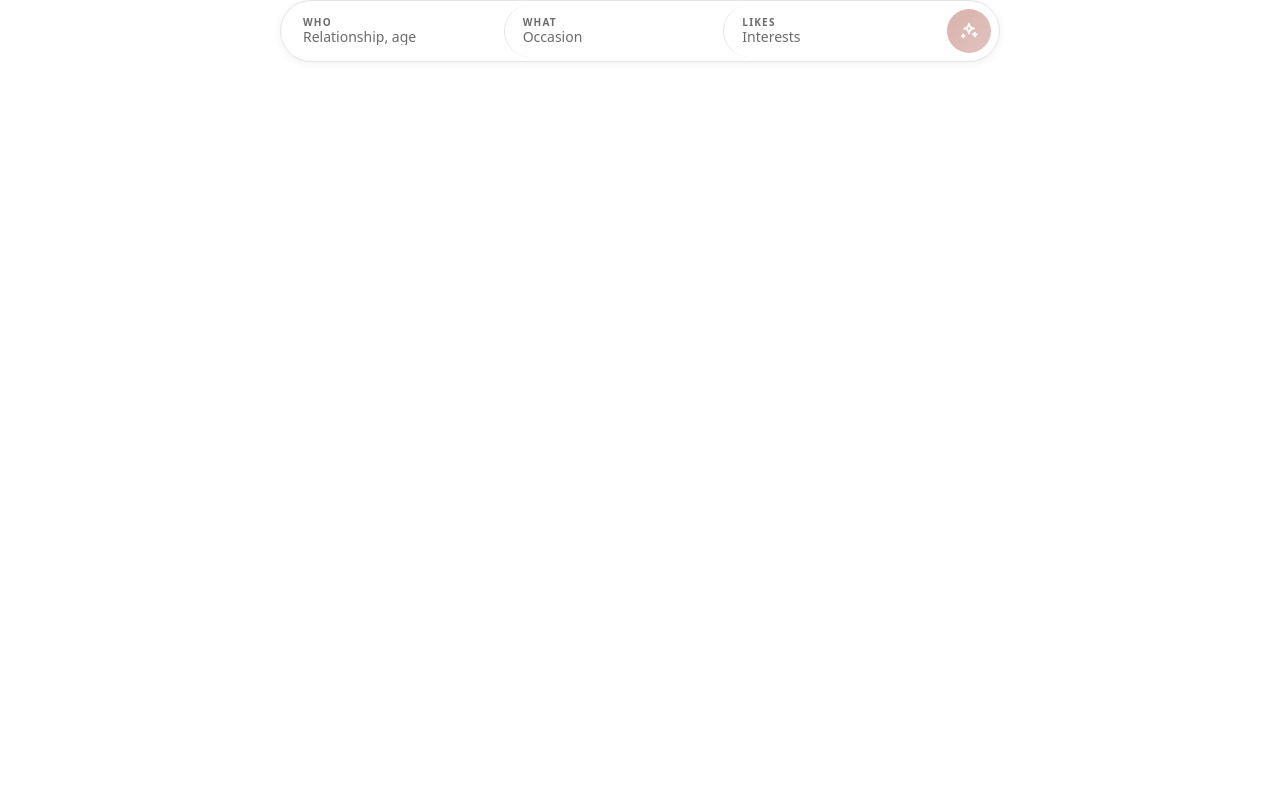
Test: SearchPill › selecting Mom + 30s closes WHO and updates segment text
The width and height of the screenshot is (1280, 800).
Click the button "Who Relationship, age" at (394, 31), box [285, 5, 504, 57]
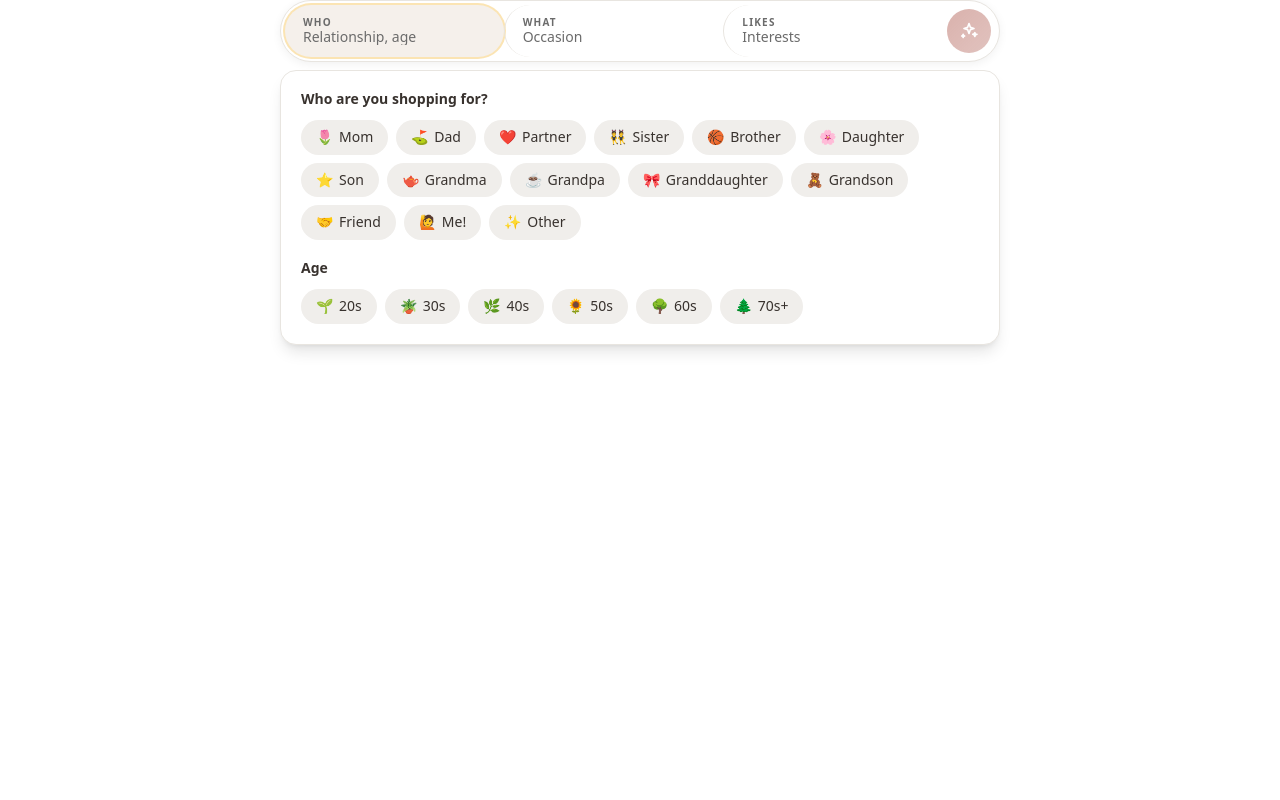
Click the button "🌷 Mom" at (345, 137), box [301, 120, 388, 155]
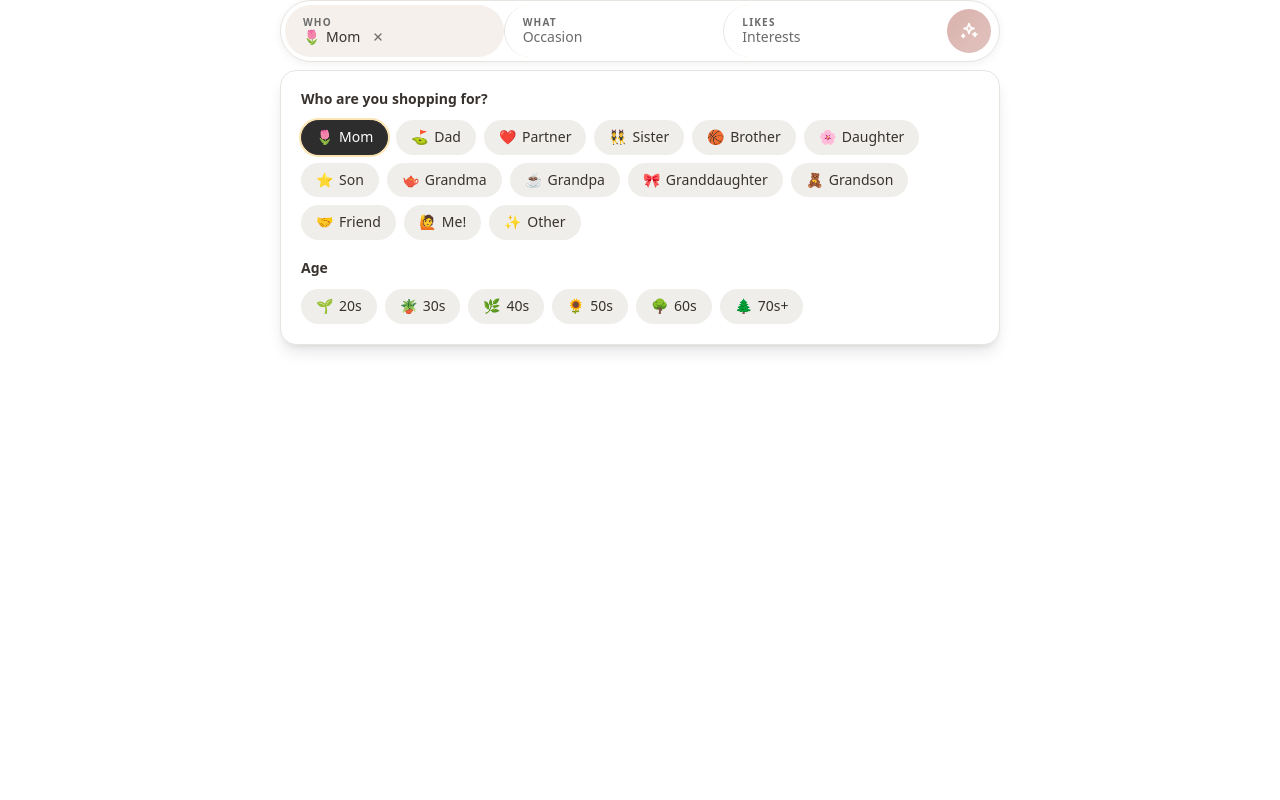
Click the button "🪴 30s" at (423, 306), box [385, 289, 460, 324]
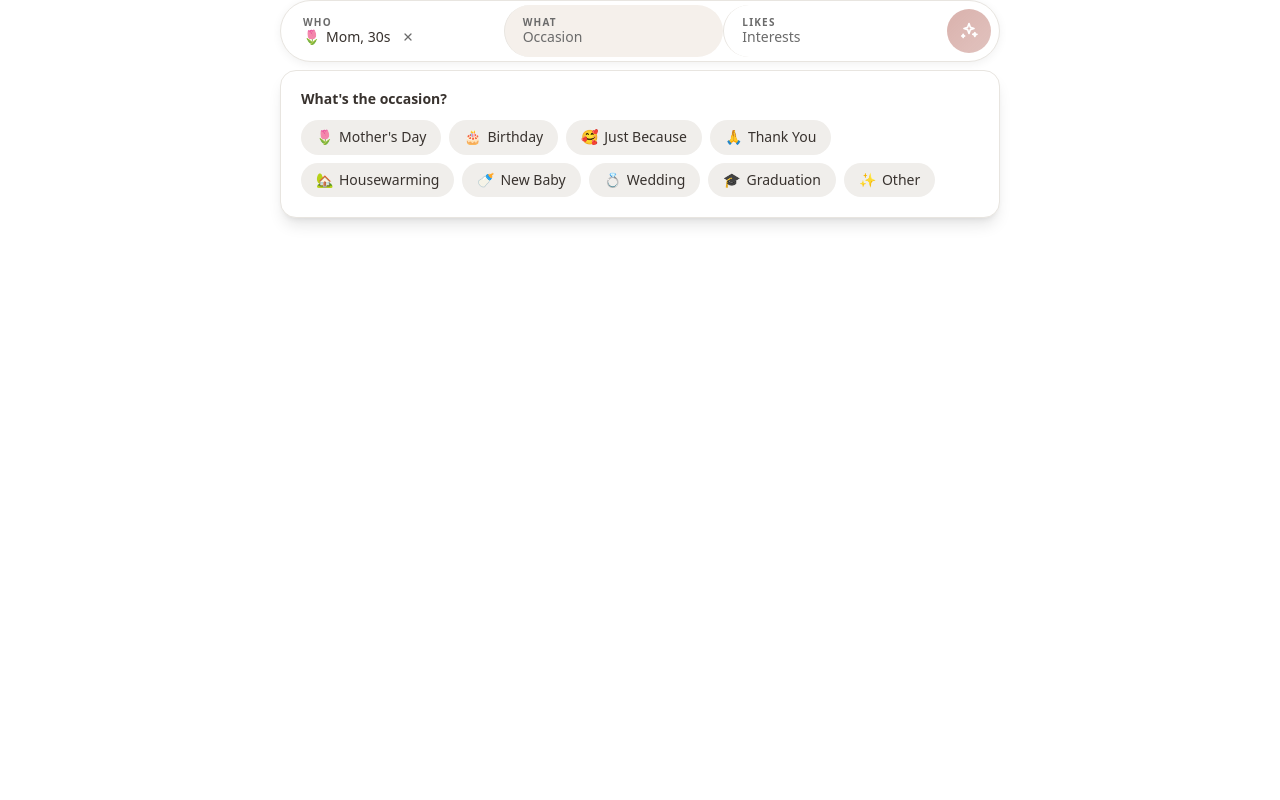
Check: the heading "Who are you shopping for" is gone
Check: the text "Mom, 30s" is shown, box [326, 29, 390, 45]
